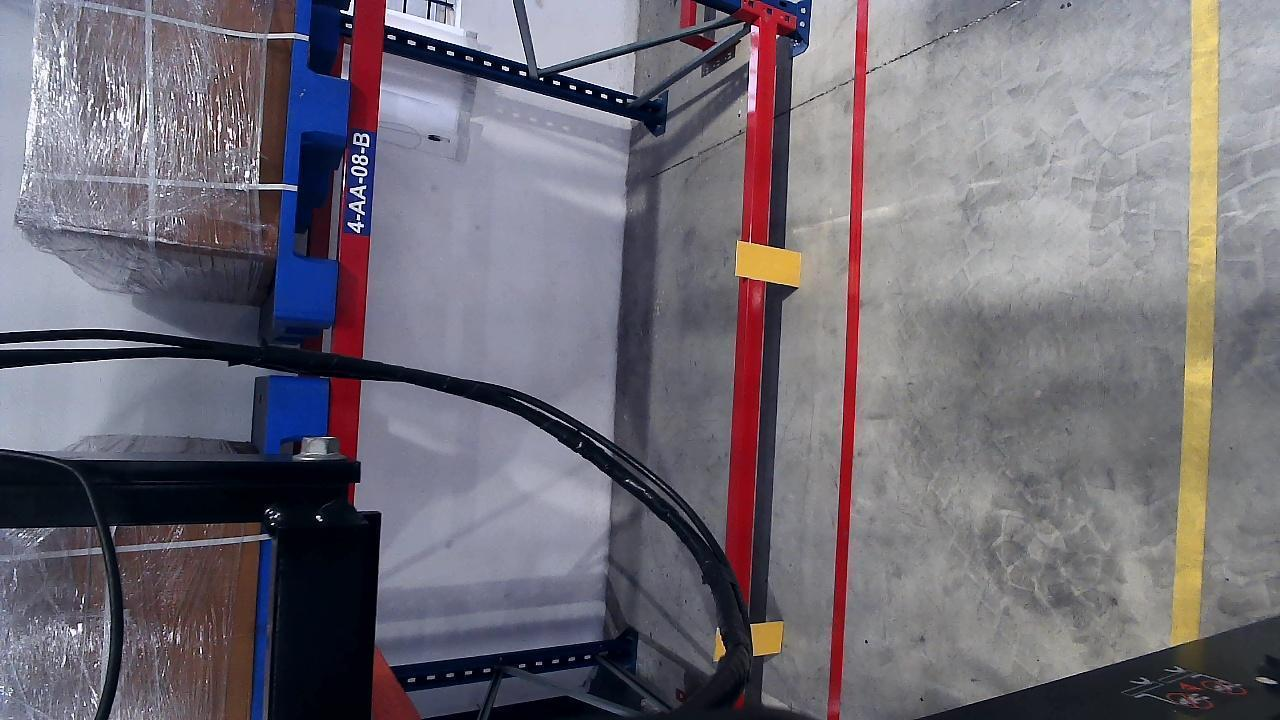red_line: (832, 11, 868, 720)
yellow_line: (1173, 0, 1221, 651)
